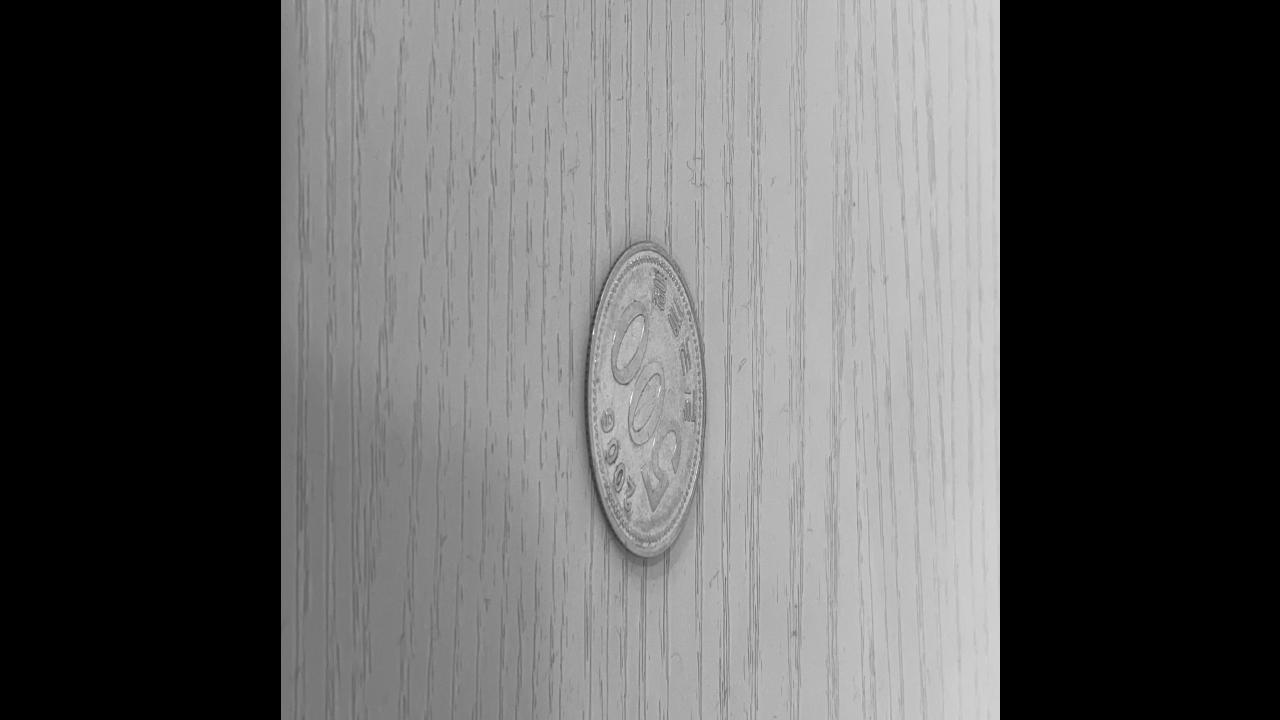coin: (586, 241, 704, 558)
